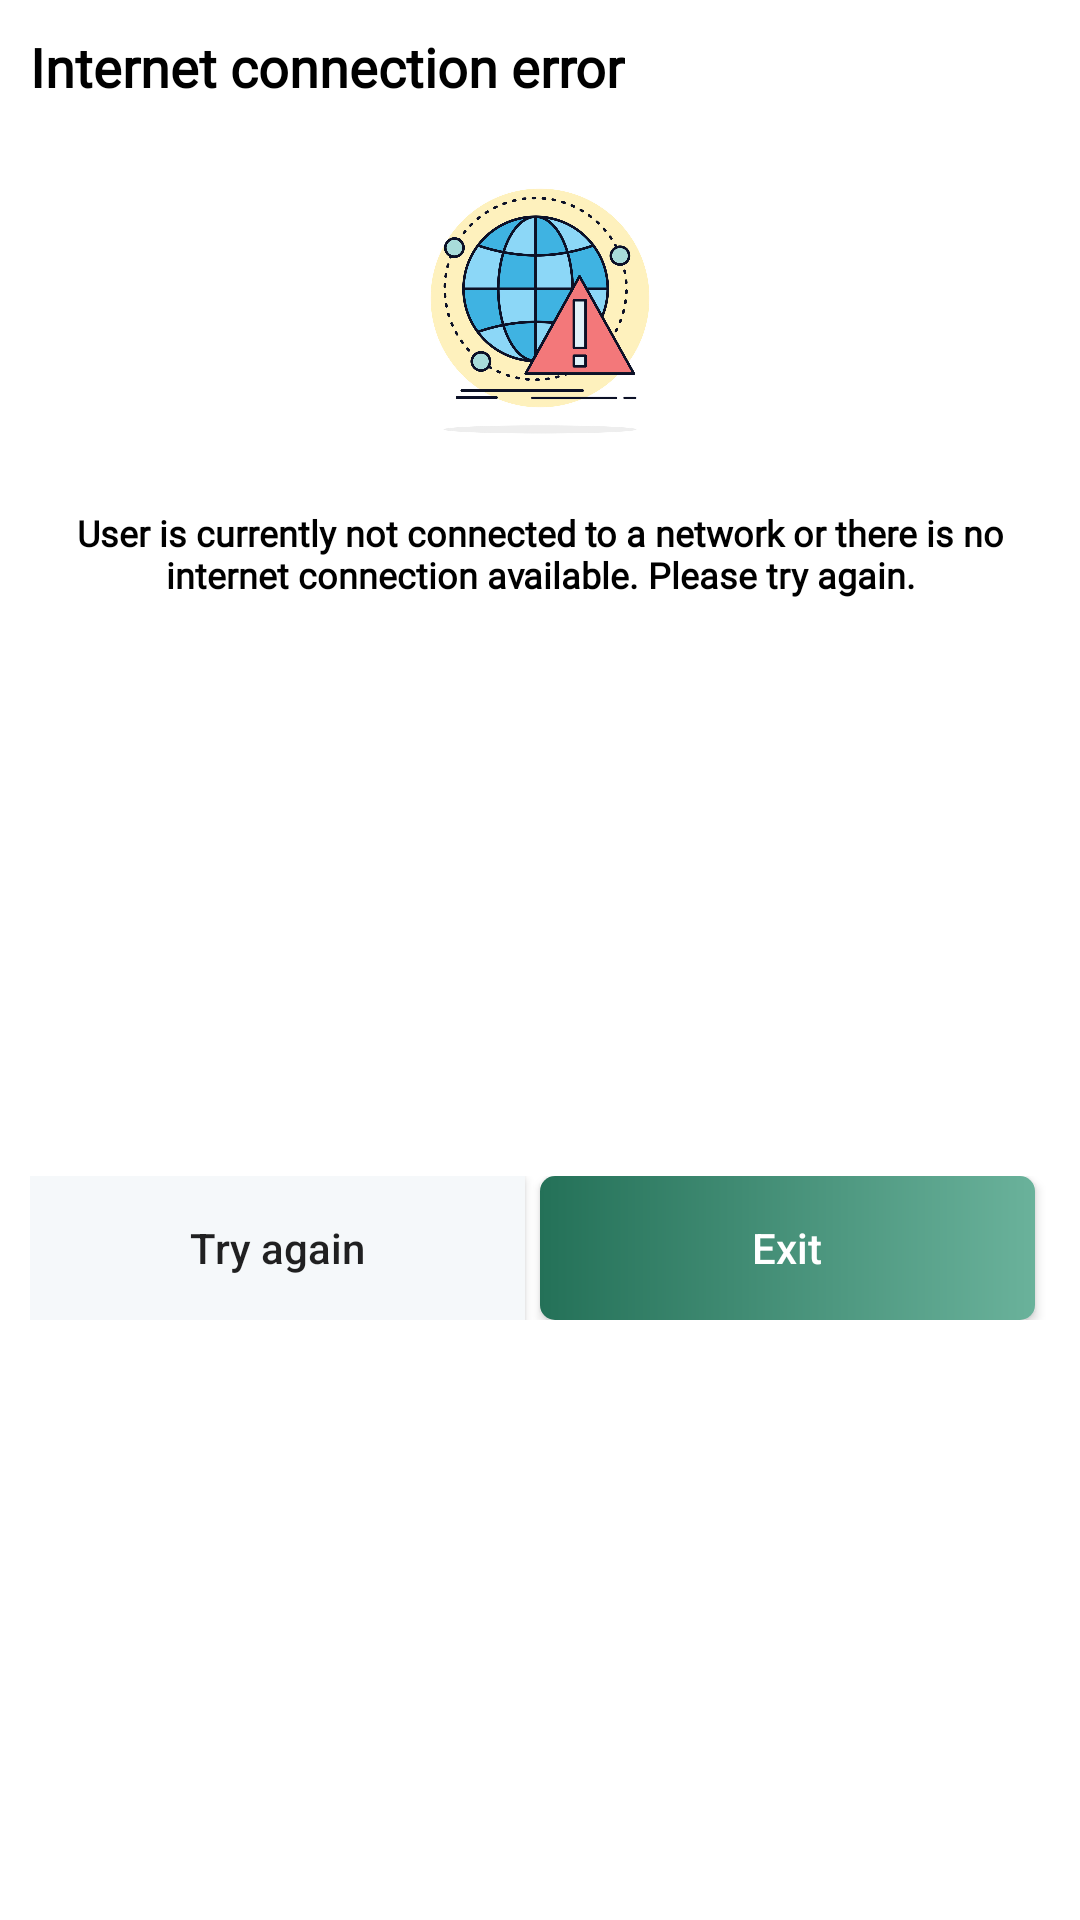

Named icons in this screenshot (1080*1920) and their centers, [x,y]:
nettwork error: [540,298]
